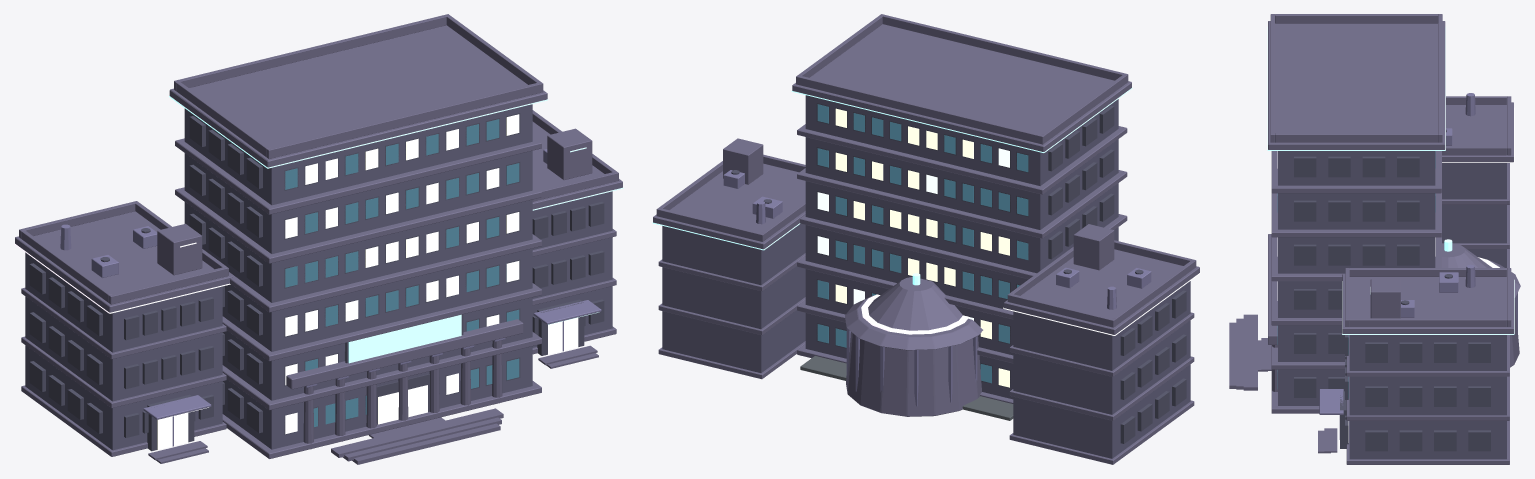
The model's file is academy.glb.
3 views of the same model, side by side, from view 1: azimuth 30°, elevation 25°; view 2: azimuth 150°, elevation 25°; view 3: azimuth 270°, elevation 25° (orthographic). The views are drawn at different scales.
Visible parts, largest first — view 1: academy_Concrete@academic, academy_Graphite@academic, academy_DarkAlloy@academic, academy_WarmGlass, academy_BlackGlass, academy_Cyan, academy_Steel@academic, academy_CoolGlass; view 2: academy_Concrete@academic, academy_Graphite@academic, academy_DarkAlloy@academic, academy_BlackGlass, academy_WarmGlass, academy_Steel@academic, academy_Sidewalk, academy_Violet, academy_CoolGlass, academy_Cyan; view 3: academy_Concrete@academic, academy_Graphite@academic, academy_DarkAlloy@academic, academy_Steel@academic, academy_Cyan.
Boxes of the visible parts, x1,y1,x2,y2 form: academy_Concrete@academic: (15,14,622,464); academy_Graphite@academic: (25,104,612,450); academy_DarkAlloy@academic: (29,113,604,451); academy_WarmGlass: (157,114,578,449); academy_BlackGlass: (285,119,519,427); academy_Cyan: (169,95,623,363); academy_Steel@academic: (60,149,601,446); academy_CoolGlass: (285,182,519,385); academy_Concrete@academic: (653,14,1199,464); academy_Graphite@academic: (662,95,1190,458); academy_DarkAlloy@academic: (731,103,1186,443); academy_BlackGlass: (817,104,1028,383); academy_WarmGlass: (835,108,1009,387); academy_Steel@academic: (723,170,1151,406); academy_Sidewalk: (800,356,1013,420); academy_Violet: (861,272,1200,335); academy_CoolGlass: (817,148,1009,320); academy_Cyan: (652,87,1132,285); academy_Concrete@academic: (1229,14,1520,464); academy_Graphite@academic: (1278,151,1506,459); academy_DarkAlloy@academic: (1294,129,1490,451); academy_Steel@academic: (1319,93,1517,439); academy_Cyan: (1267,26,1514,334).
Bounding box in the file's own units: 37.46 × 21.83 × 20.36.
